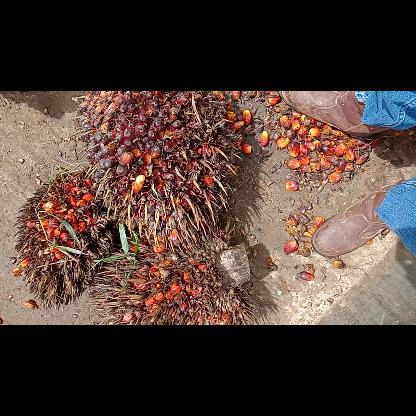TBS masak: (74, 91, 244, 253)
Terlalu masak: (86, 232, 256, 324), (11, 171, 114, 308)
